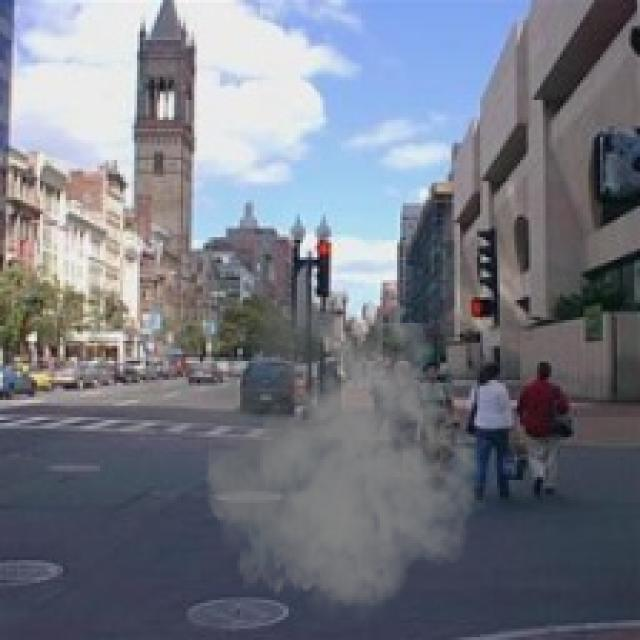smoke: (106, 280, 488, 631)
